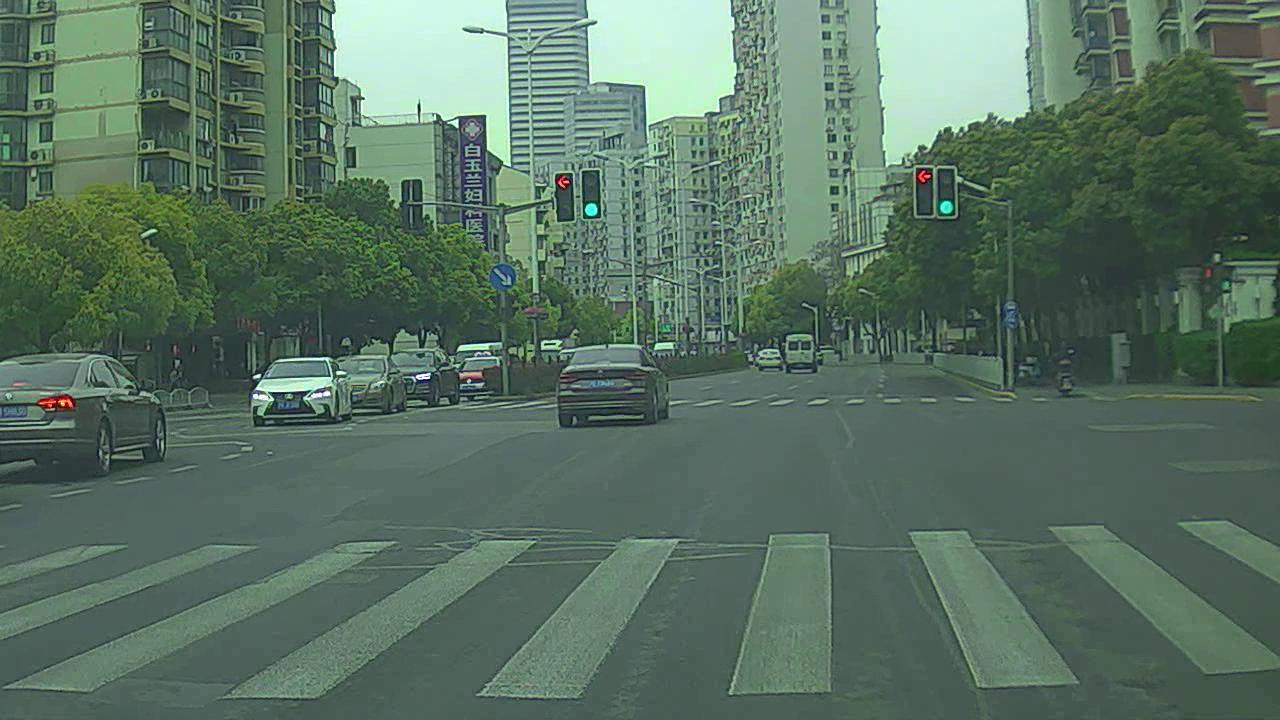traffic_light: (935, 168, 960, 219), (553, 170, 575, 225), (580, 170, 602, 220), (916, 167, 935, 217)
